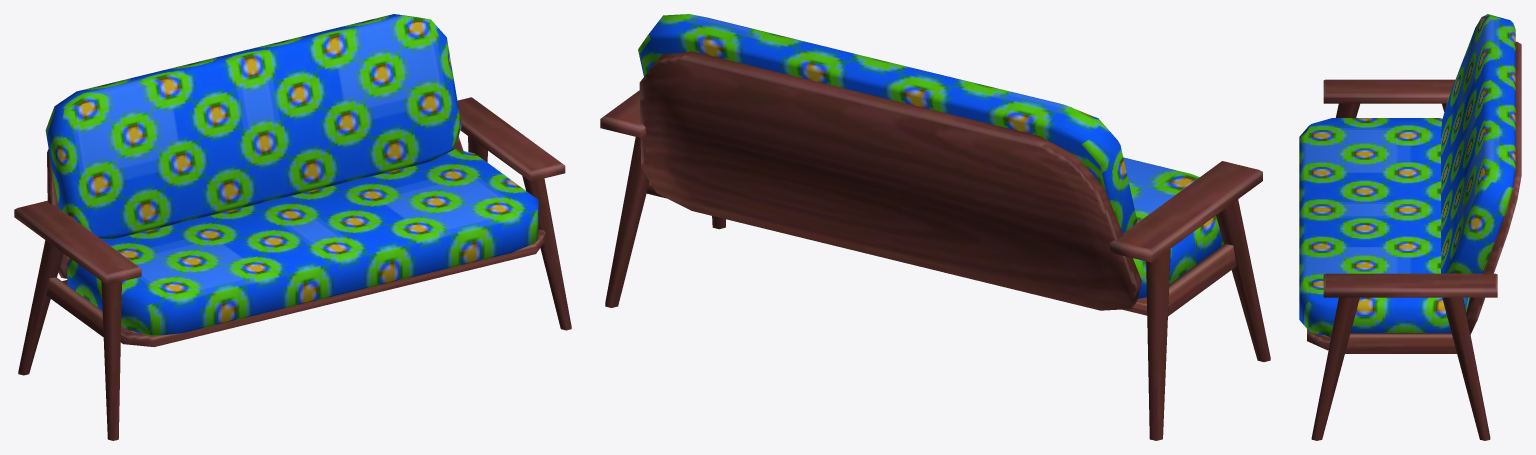
File: int_grf_chairL.dae
The picture shows the model from 3 angles, left to right: view 1: azimuth 30°, elevation 25°; view 2: azimuth 150°, elevation 25°; view 3: azimuth 270°, elevation 25°; orthographic projection. The views are drawn at different scales.
Parts seen in each view (by area): view 1: int_grf_chairL; view 2: int_grf_chairL; view 3: int_grf_chairL.
Boxes of the visible parts, bbox=[...] form: int_grf_chairL: bbox=[14, 14, 571, 440]; int_grf_chairL: bbox=[600, 14, 1270, 440]; int_grf_chairL: bbox=[1299, 14, 1521, 440].
Bounding box in the file's own units: 58.43 × 31.36 × 25.79.
Materials: 2 (2 with a texture image).
